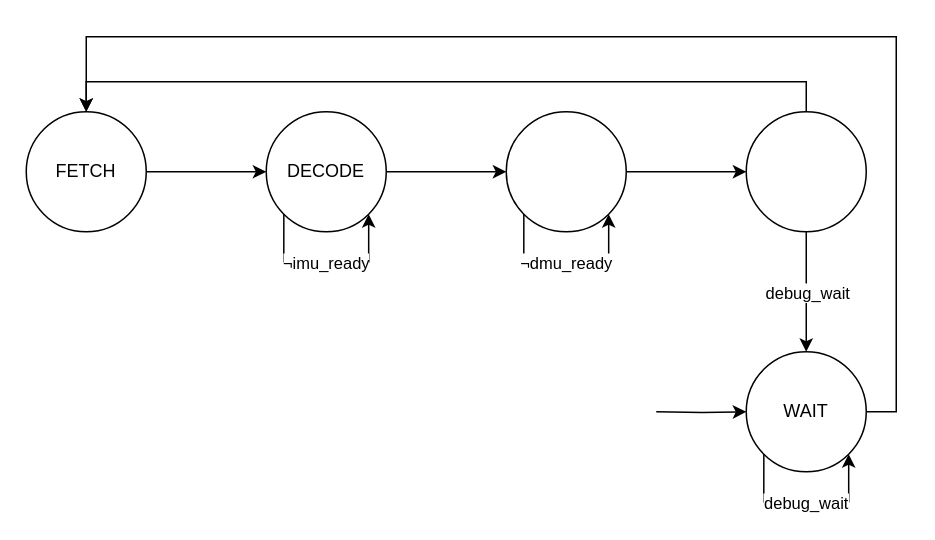
Some shapes in this 935 by 540 pixel diagram are drawn without their labels. The shapes that lost their labels are listed below. From the top down, each one's centre as x and y in pixels, then its label:
the point at 565,171: EXECUTE
the point at 805,171: WRITEBACK
